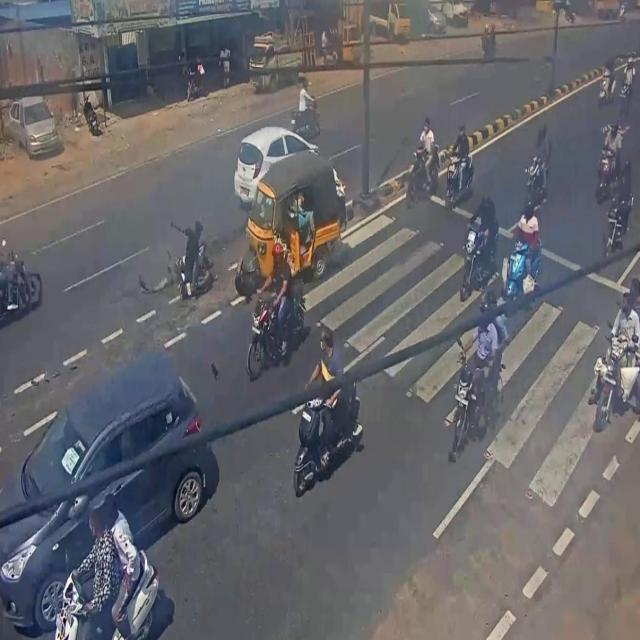accident: (152, 127, 349, 301)
non_accident: (0, 282, 213, 640)
